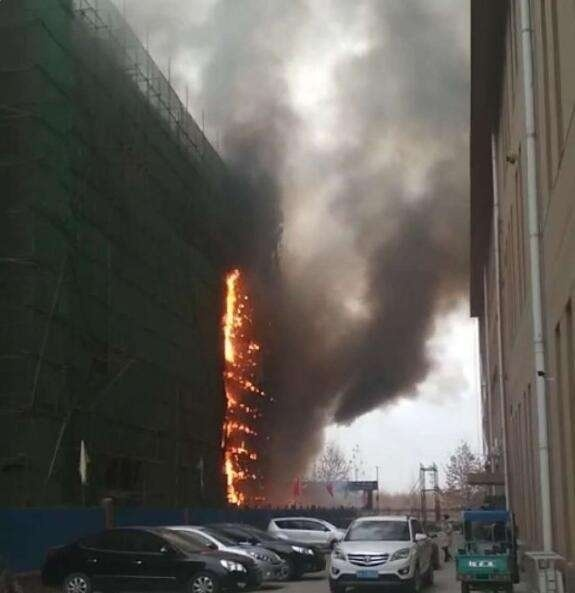fire: (215, 262, 263, 500)
